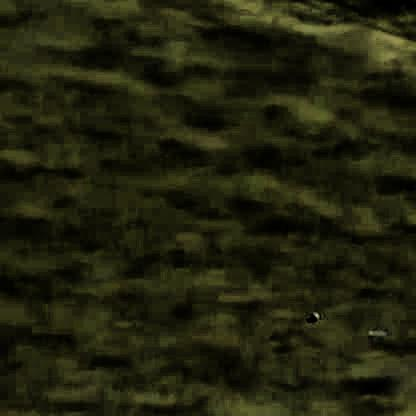golfball: (309, 308, 319, 319)
